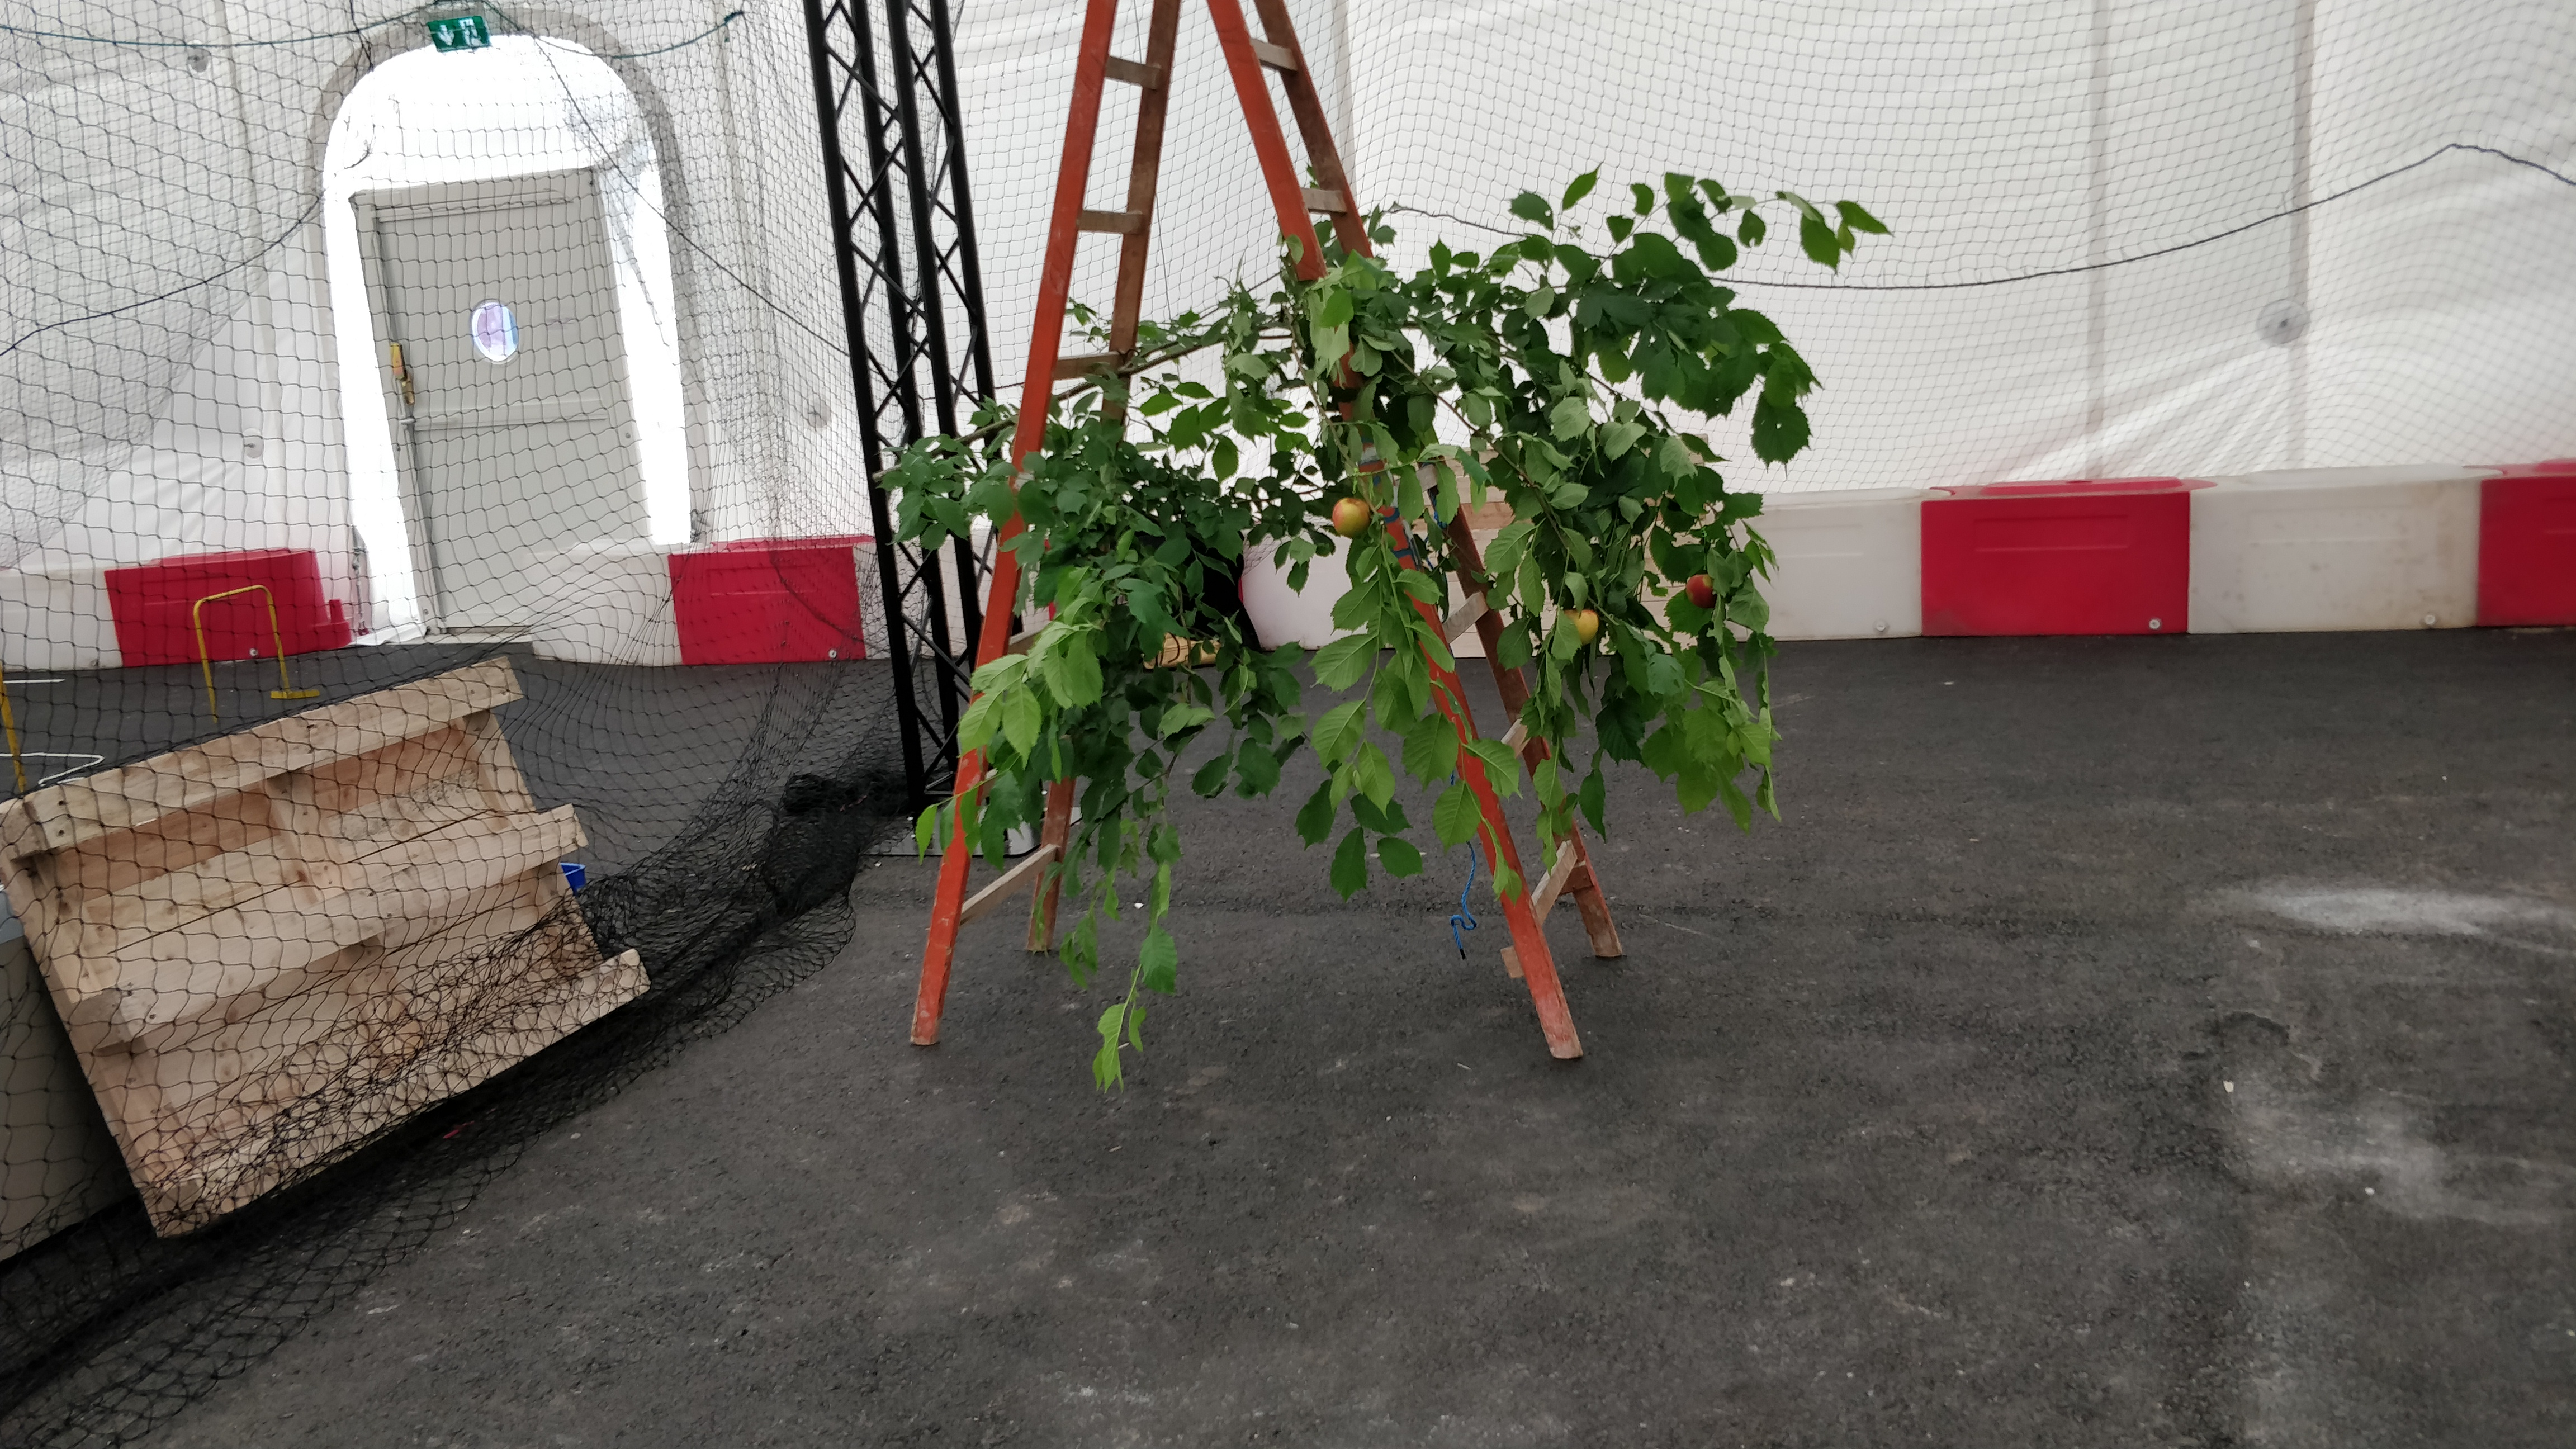apple: (1332, 497, 1371, 538), (1562, 610, 1599, 646), (1684, 575, 1716, 609)
